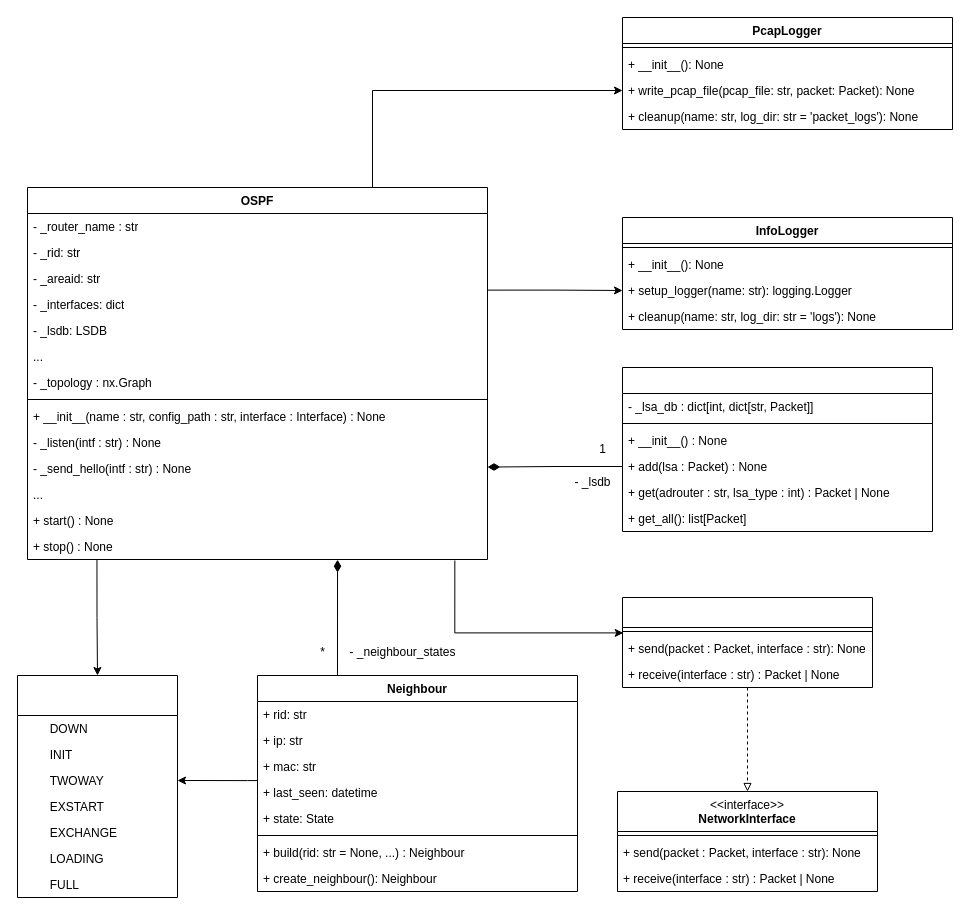
Some shapes in this 970 by 918 pixel diagram are drawn without their labels. The shapes that lost their labels are listed below. From the top down, each one's box as (x1, y1, x2, y2) in pixels, then its label:
(622, 366, 932, 532): LSDB
(622, 596, 872, 688): ScapyInterface
(16, 674, 178, 898): <<enumerate>> State
